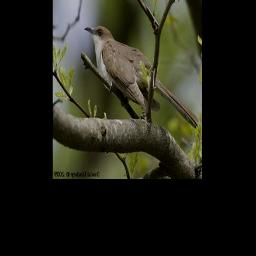Cuckoo: (86, 24, 200, 128)
